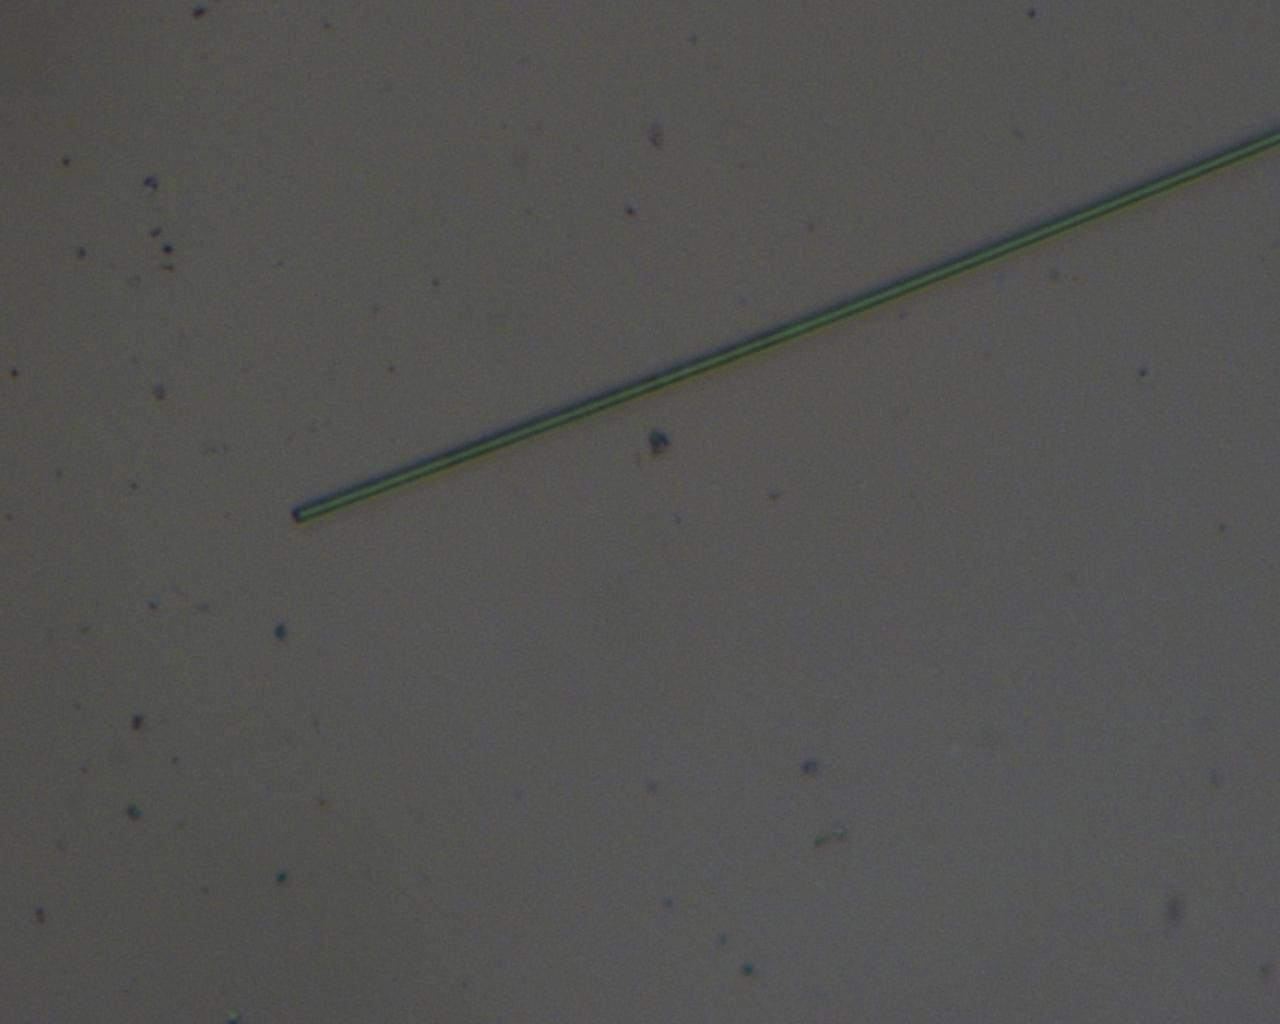fiber: (127, 343, 1151, 553)
